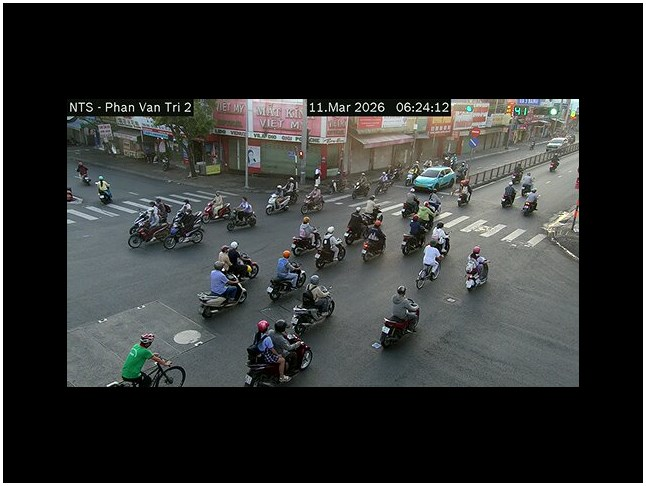car: (412, 166, 459, 192)
motorbike: (128, 209, 205, 251), (246, 336, 313, 381), (111, 354, 186, 387), (290, 280, 336, 333), (196, 275, 248, 316), (376, 306, 419, 350), (466, 252, 489, 291), (226, 206, 257, 230), (266, 189, 292, 215), (519, 189, 539, 214)
